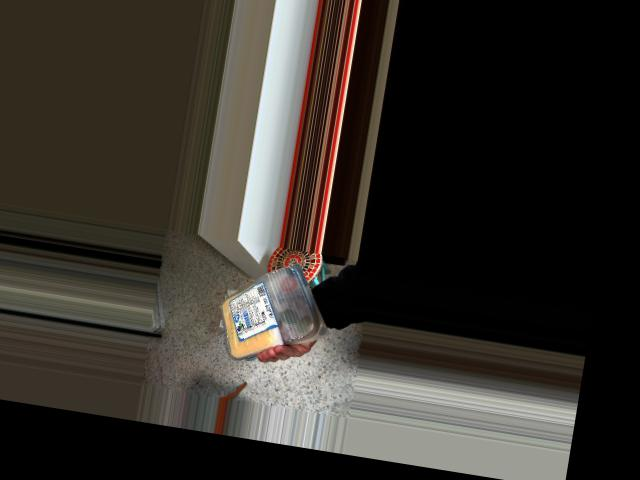cheese: (211, 255, 322, 357)
